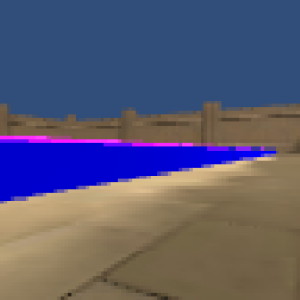platform: (1, 148, 276, 199)
ramp: (1, 134, 195, 148)
